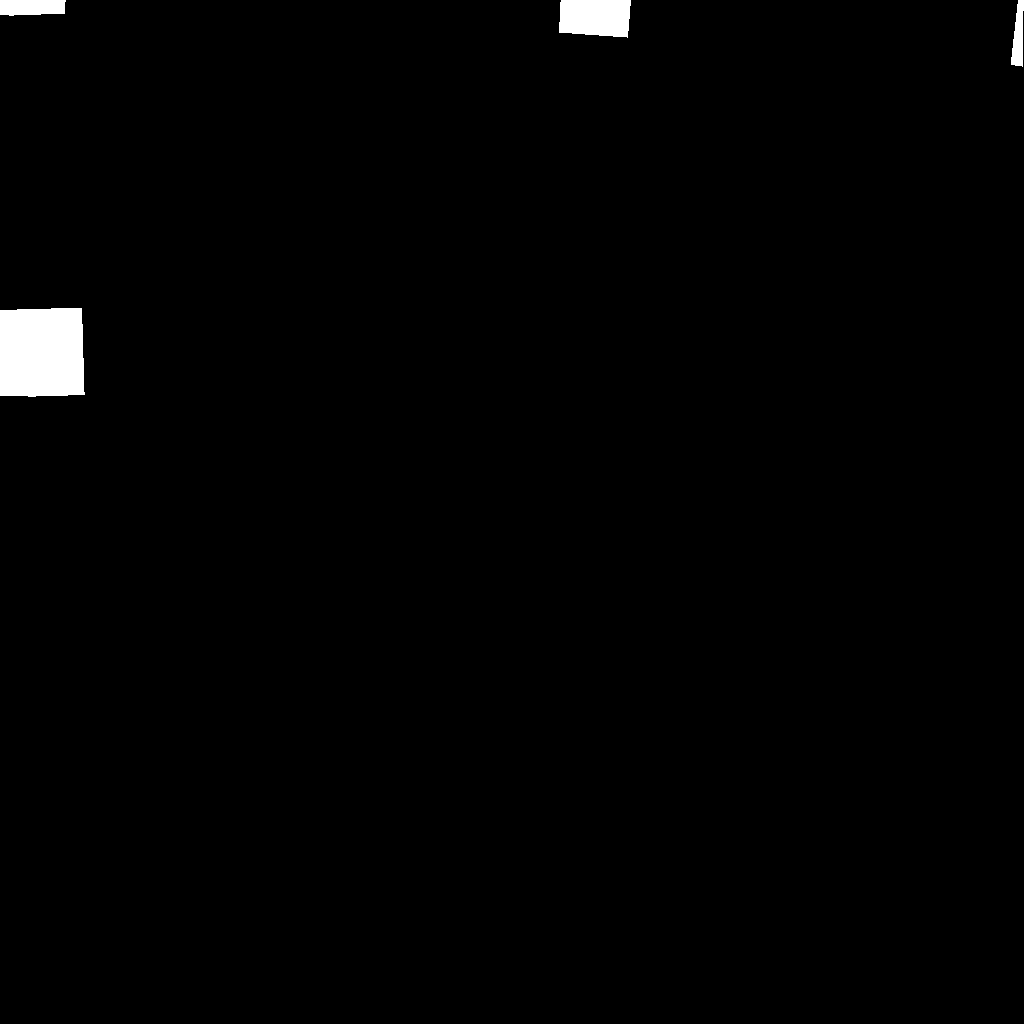building: (0, 308, 85, 397), (559, 0, 632, 38), (0, 0, 66, 16), (1011, 0, 1024, 67)
